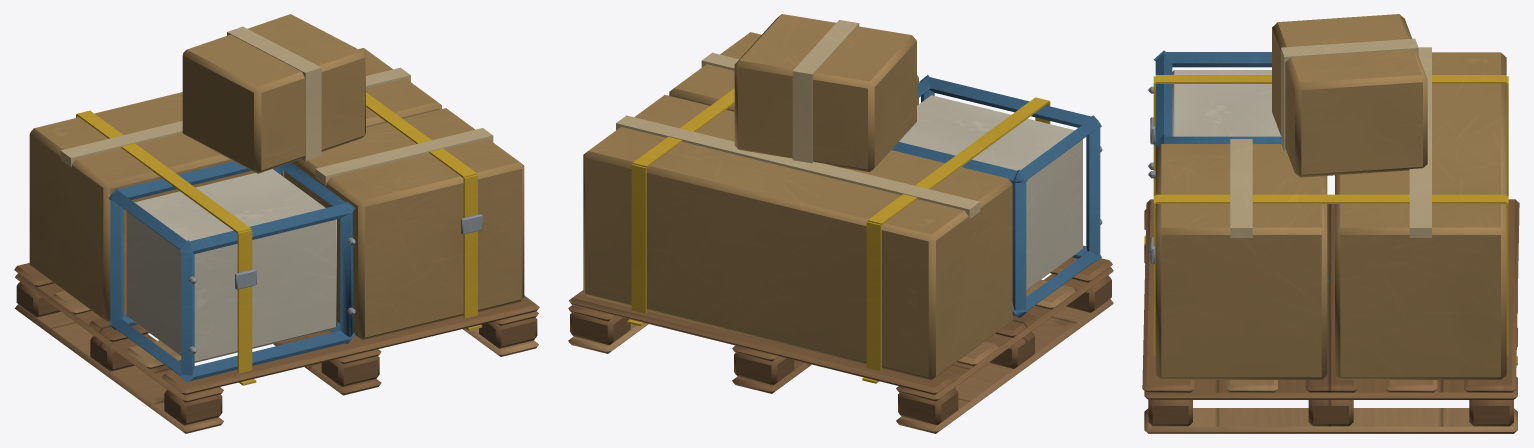
File: pallet.glb
The picture shows the model from 3 angles, left to right: view 1: azimuth 30°, elevation 25°; view 2: azimuth 150°, elevation 25°; view 3: azimuth 270°, elevation 25°; orthographic projection. The views are drawn at different scales.
Visible parts, largest first — view 1: pallet.001; view 2: pallet.001; view 3: pallet.001.
Part boxes in pixels (x1,y1,x2,y2): pallet.001: (14,14,539,433); pallet.001: (568,14,1113,433); pallet.001: (1142,14,1519,433).
Bounding box in the file's own units: 1.2 × 0.876 × 1.01.
12 materials, 12 textured.
